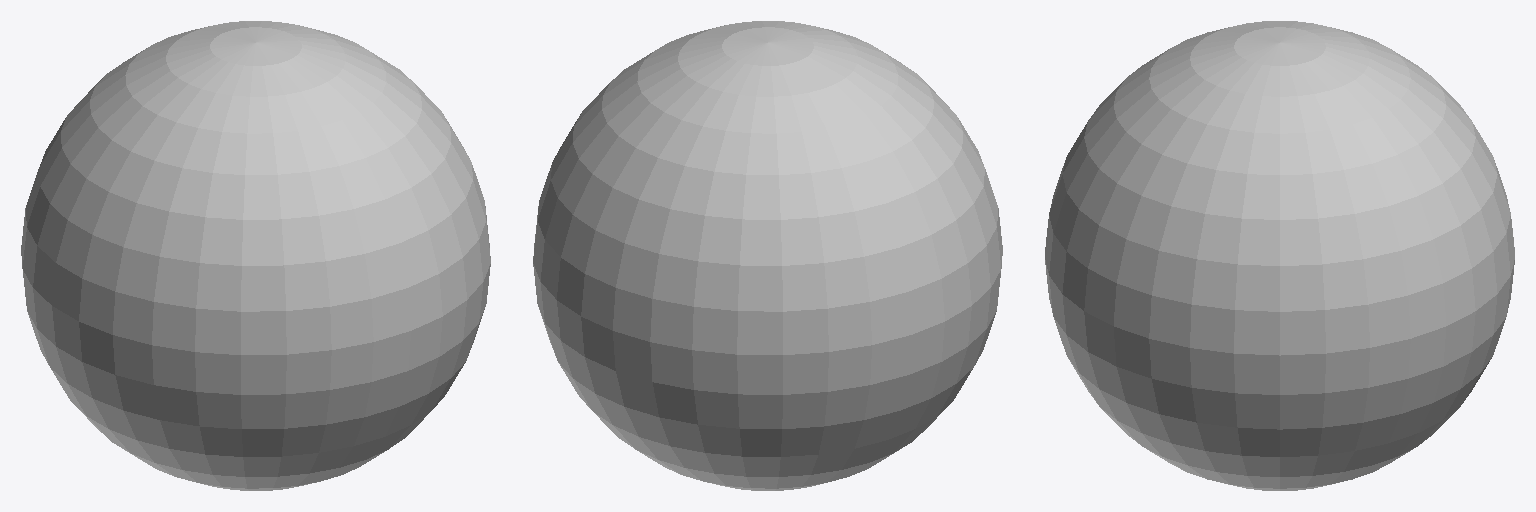
File: sky.obj
The picture shows the model from 3 angles: view 1: azimuth 30°, elevation 25°; view 2: azimuth 150°, elevation 25°; view 3: azimuth 270°, elevation 25°; orthographic projection.
Parts seen in each view (by area): view 1: Sphere; view 2: Sphere; view 3: Sphere.
Boxes of the visible parts, box(x1,y1,x2,y2) form: Sphere: box(21, 21, 490, 490); Sphere: box(533, 21, 1002, 490); Sphere: box(1045, 21, 1514, 490).
Size of the model in its own units: 2000 by 2000 by 2000.